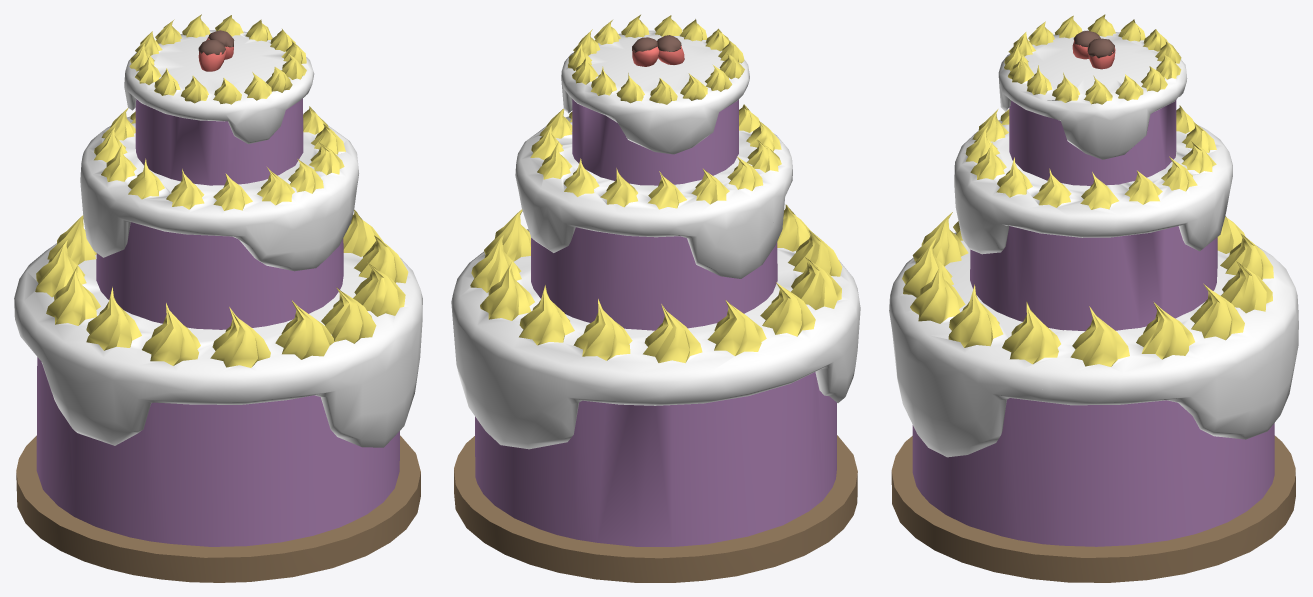
Rendered from cake1_low_rootss55.fbx.
3 views of the same model, side by side, from view 1: azimuth 30°, elevation 25°; view 2: azimuth 150°, elevation 25°; view 3: azimuth 270°, elevation 25° (orthographic).
Parts seen in each view (by area): view 1: cake1_low_sh_4, cake1_low_sh_45, cake1_low_sh_8, cake1_low_sh_41, cake1_low_sh_36, cake1_low_sh_49, cake1_low_sh_5, cake1_low_sh_22, cake1_low_sh_11, cake1_low_sh_44, cake1_low_sh_33, cake1_low_sh_31 (+12 smaller); view 2: cake1_low_sh_9, cake1_low_sh_45, cake1_low_sh_1, cake1_low_sh_43, cake1_low_sh_35, cake1_low_sh_26, cake1_low_sh_10, cake1_low_sh_46, cake1_low_sh_4, cake1_low_sh_7, cake1_low_sh_8, cake1_low_sh_51 (+11 smaller); view 3: cake1_low_sh_45, cake1_low_sh_3, cake1_low_sh_5, cake1_low_sh_33, cake1_low_sh_9, cake1_low_sh_6, cake1_low_sh_39, cake1_low_sh_2, cake1_low_sh_11, cake1_low_sh_48, cake1_low_sh_19, cake1_low_sh_38 (+19 smaller).
Boxes of the visible parts, box(x1,y1,x2,y2) form: cake1_low_sh_4: box(44, 300, 349, 481); cake1_low_sh_45: box(124, 14, 314, 185); cake1_low_sh_8: box(38, 356, 290, 546); cake1_low_sh_41: box(186, 167, 323, 281); cake1_low_sh_36: box(98, 158, 214, 300); cake1_low_sh_49: box(42, 508, 322, 582); cake1_low_sh_5: box(344, 271, 422, 448); cake1_low_sh_22: box(255, 431, 387, 540); cake1_low_sh_11: box(277, 235, 415, 366); cake1_low_sh_44: box(269, 221, 350, 323); cake1_low_sh_33: box(277, 106, 358, 224); cake1_low_sh_31: box(137, 279, 276, 329); cake1_low_sh_9: box(457, 291, 679, 468); cake1_low_sh_45: box(561, 14, 749, 185); cake1_low_sh_1: box(634, 384, 809, 546); cake1_low_sh_43: box(540, 166, 773, 310); cake1_low_sh_35: box(528, 195, 775, 330); cake1_low_sh_26: box(630, 291, 779, 403); cake1_low_sh_10: box(511, 457, 637, 546); cake1_low_sh_46: box(625, 512, 830, 582); cake1_low_sh_4: box(774, 210, 860, 352); cake1_low_sh_7: box(746, 282, 838, 389); cake1_low_sh_8: box(797, 346, 857, 510); cake1_low_sh_51: box(487, 517, 634, 581); cake1_low_sh_45: box(998, 14, 1187, 185); cake1_low_sh_3: box(1040, 284, 1236, 467); cake1_low_sh_5: box(892, 294, 1034, 470); cake1_low_sh_33: box(960, 153, 1217, 300); cake1_low_sh_9: box(1202, 253, 1298, 455); cake1_low_sh_6: box(936, 450, 1111, 546); cake1_low_sh_39: box(1052, 207, 1205, 331); cake1_low_sh_2: box(1055, 457, 1201, 545); cake1_low_sh_11: box(893, 258, 1064, 459); cake1_low_sh_48: box(909, 509, 1129, 582); cake1_low_sh_19: box(1035, 306, 1128, 397); cake1_low_sh_38: box(1025, 195, 1161, 273).
Bounding box in the file's own units: 805 × 1002 × 807.
2 materials, 1 textured.
